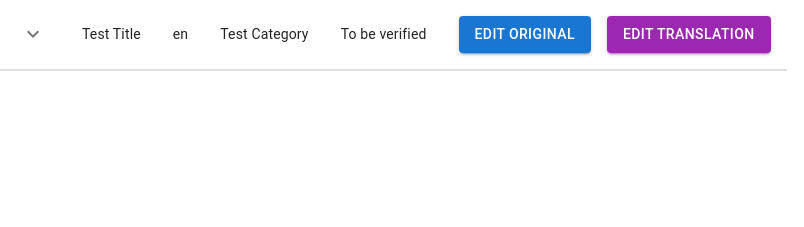
Test: TextListItem › displays text when expanded
What coordinates should you click on to do the following:
click the button named "expand row"
I would click on:
 (33, 34)
Its box is [16, 17, 50, 51].
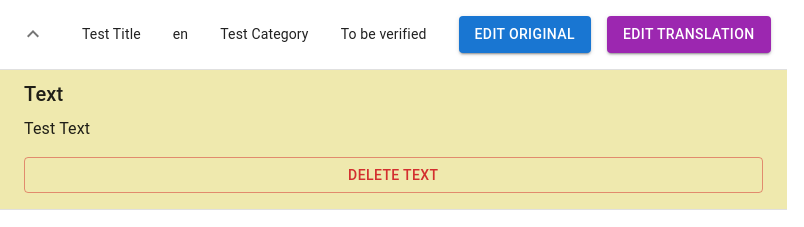
expect the text "Test Text" is shown: met, box [24, 118, 90, 138]
